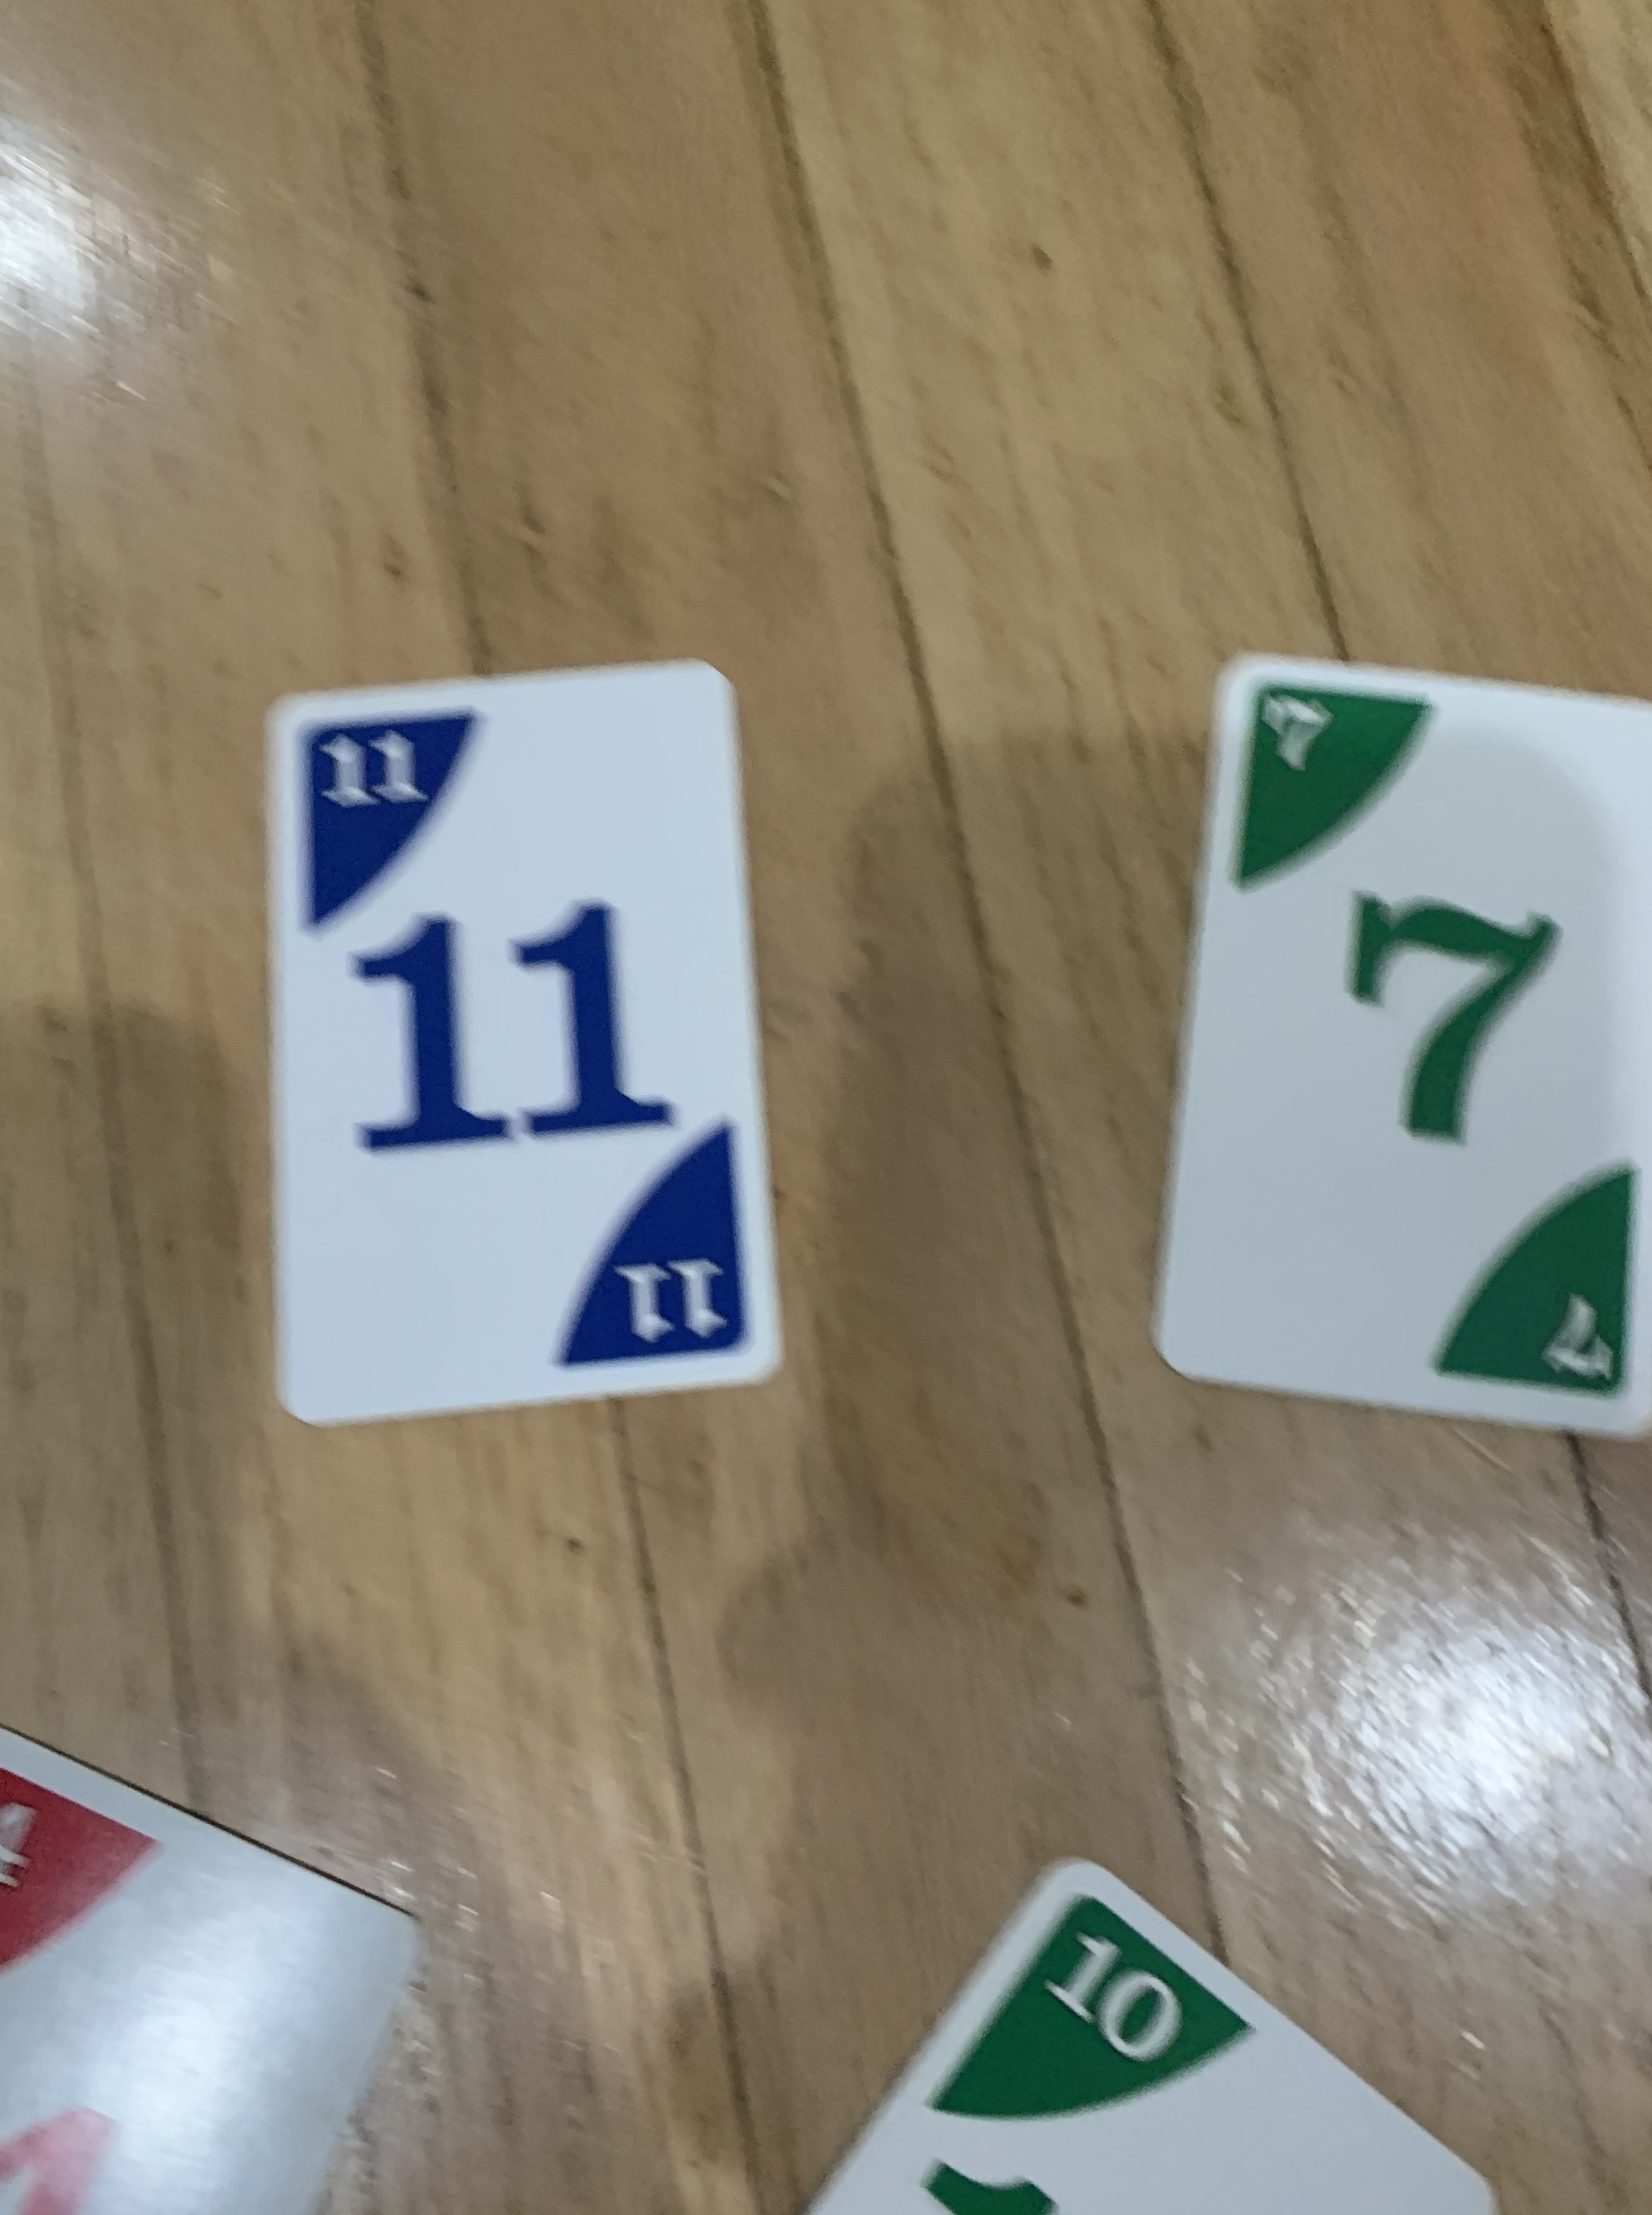eleven: (241, 654, 793, 1429)
seven: (1142, 642, 1652, 1429)
